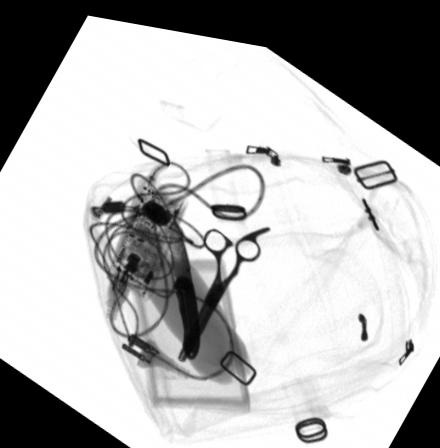Knife: (168, 211, 198, 354)
Scissors: (175, 214, 268, 357)
